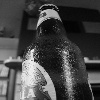beer: (22, 3, 83, 100)
